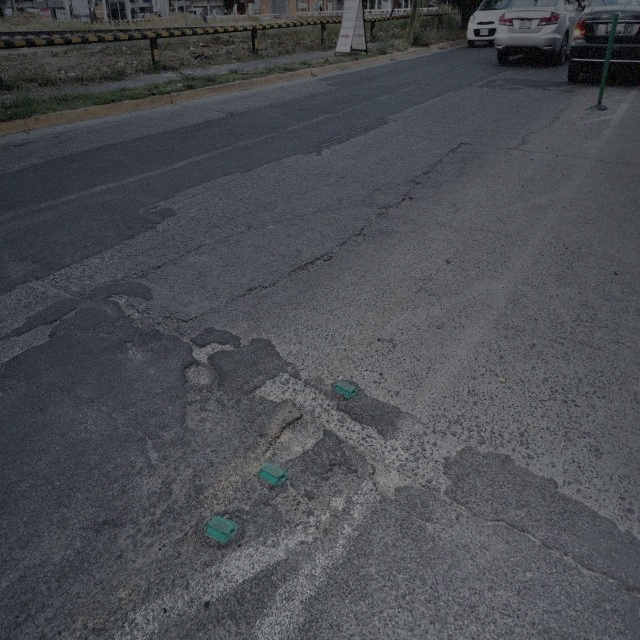pothole: (276, 410, 323, 474), (131, 306, 183, 338), (184, 361, 218, 396), (191, 338, 235, 362), (292, 250, 332, 276)
